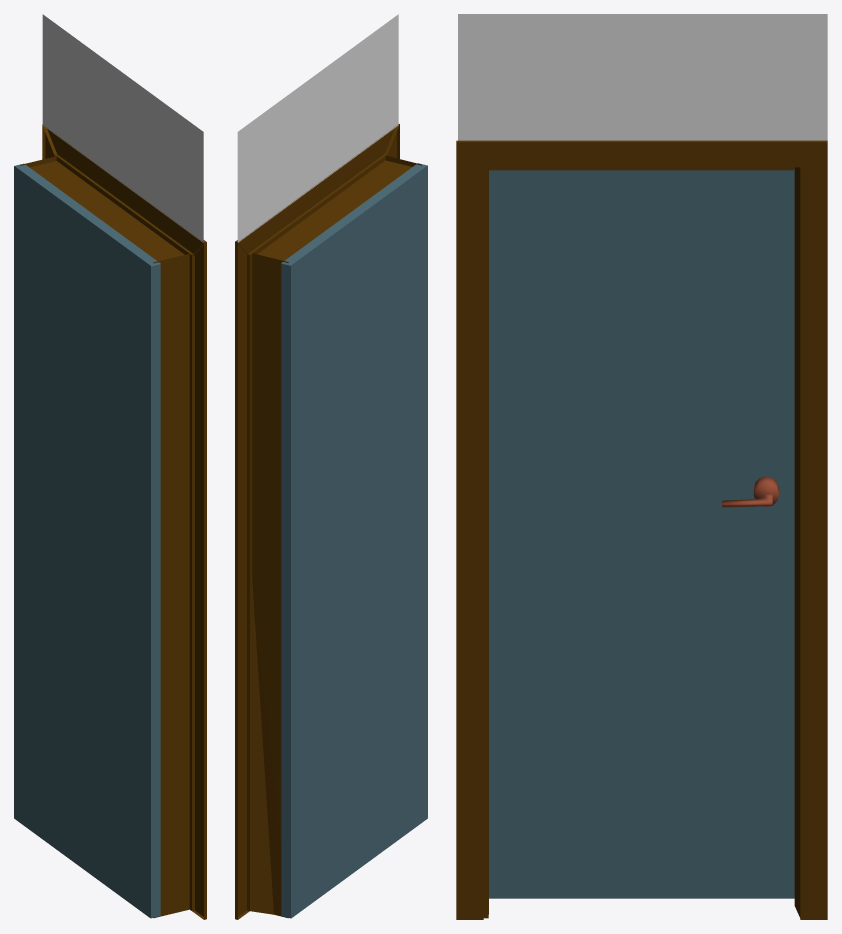
The model's file is door.fbx.
3 views of the same model, side by side, from view 1: azimuth 30°, elevation 25°; view 2: azimuth 150°, elevation 25°; view 3: azimuth 270°, elevation 25° (orthographic). The views are drawn at different scales.
Parts seen in each view (by area): view 1: door; view 2: door; view 3: door.
Boxes of the visible parts, x1,y1,x2,y2 form: door: (14, 14, 206, 919); door: (235, 14, 427, 919); door: (456, 14, 827, 919).
Bounding box in the file's own units: 4.58 × 29.43 × 79.05.
